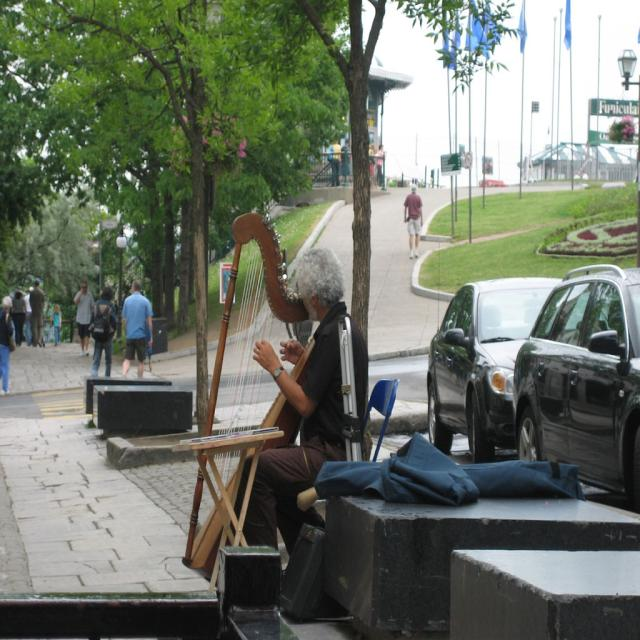harp: (178, 210, 316, 578)
